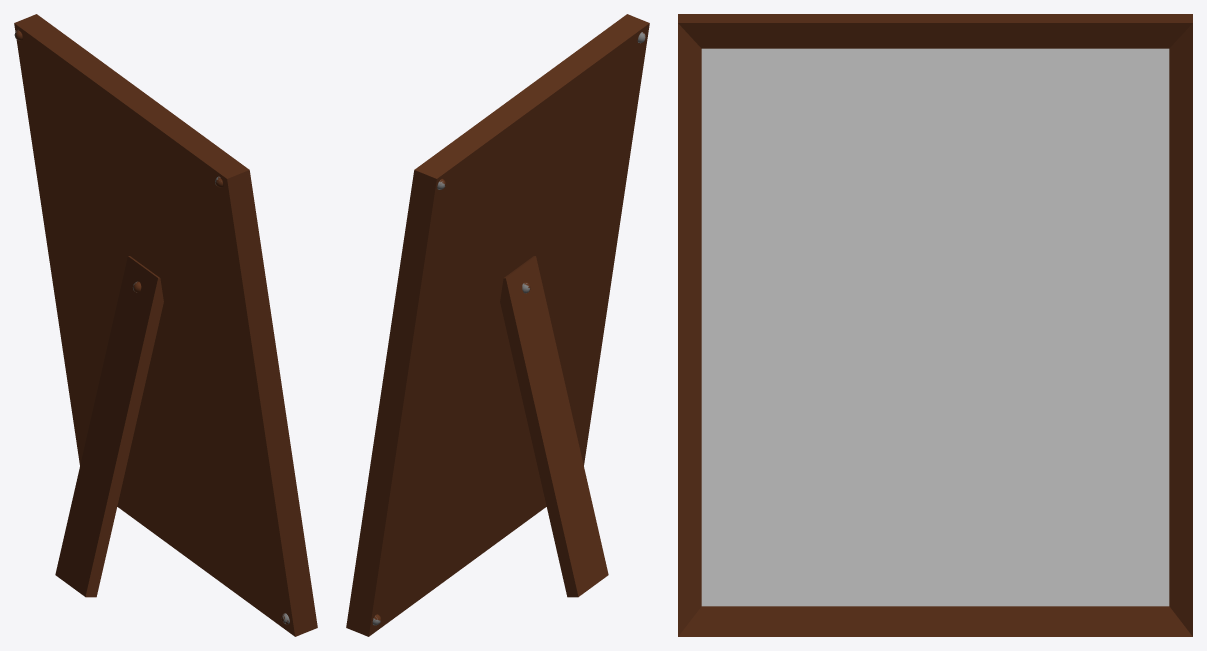
The model's file is pictureframe.fbx.
3 renders of one model, left to right at view 1: azimuth 30°, elevation 25°; view 2: azimuth 150°, elevation 25°; view 3: azimuth 270°, elevation 25°, orthographic. The views are drawn at different scales.
Parts seen in each view (by area): view 1: Cube; view 2: Cube; view 3: Cube.
Part boxes in pixels (x1,y1,x2,y2): Cube: [14, 14, 317, 636]; Cube: [346, 14, 649, 636]; Cube: [678, 14, 1192, 636].
Bounding box in the file's own units: 112 × 364 × 293.
